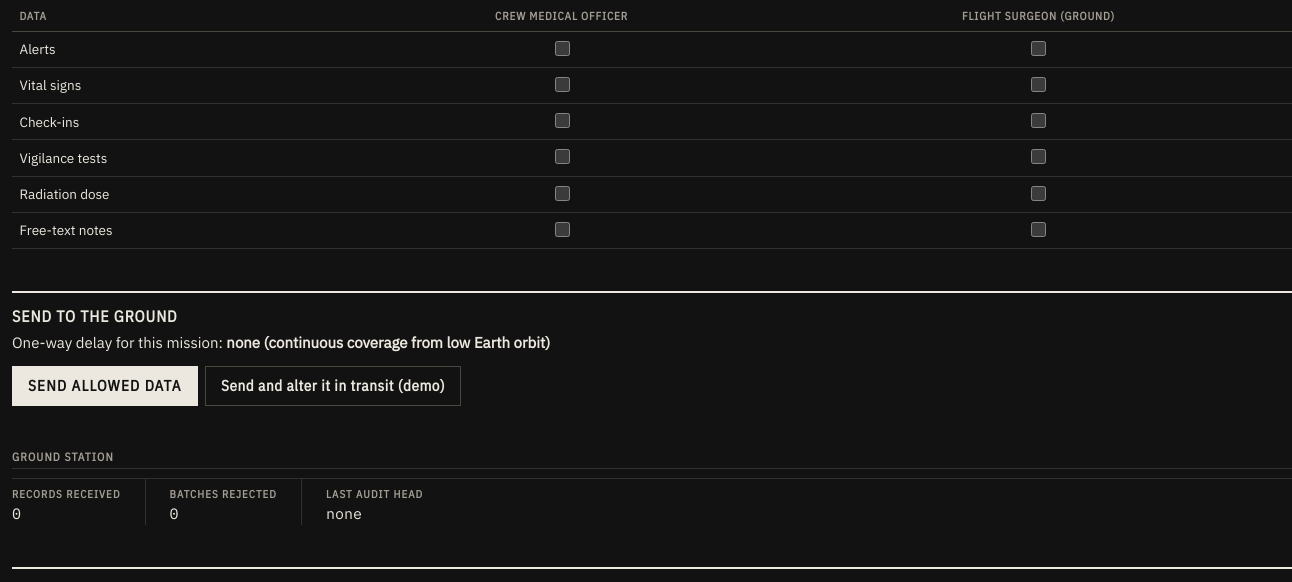
Test case: privacy and sync › shows when an audit entry was edited inside the vault
Click the checkbox named "Share Vital signs with Crew medical officer": (562, 84) [554,77,570,92]
(page scrolled)
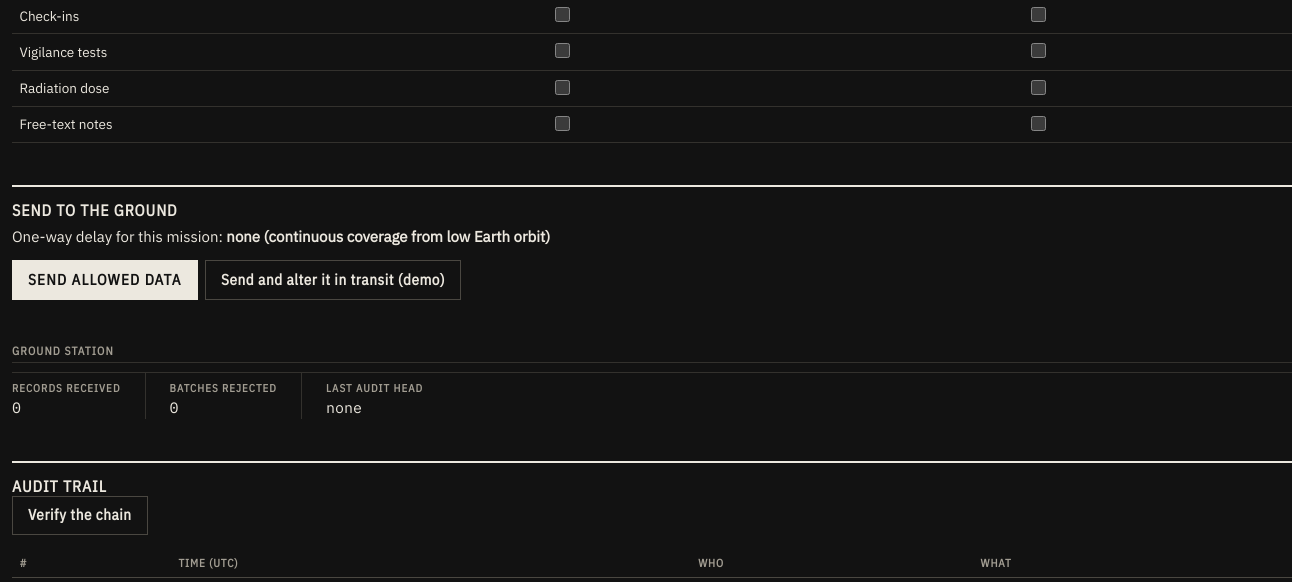
Click the button "Verify the chain": (80, 515) [12,496,148,535]
(page scrolled)
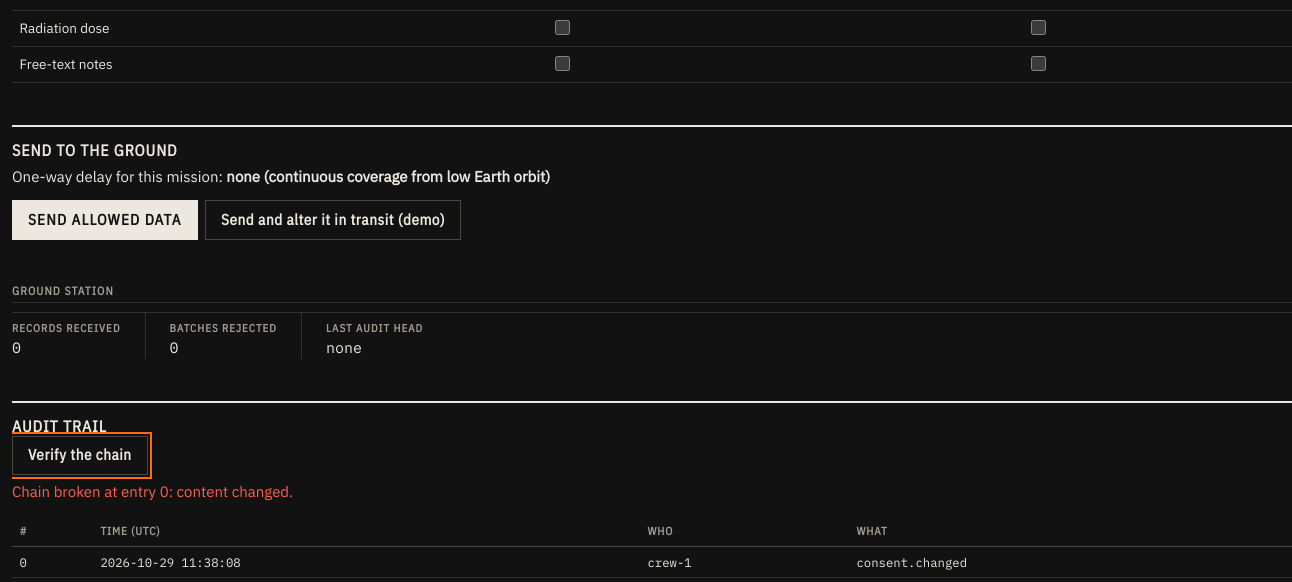
Check: the text "Chain broken at entry 0: content changed." is shown, box [12,482,293,501]
Check: the text "consent.changed" is shown, box [849,546,1291,578]
